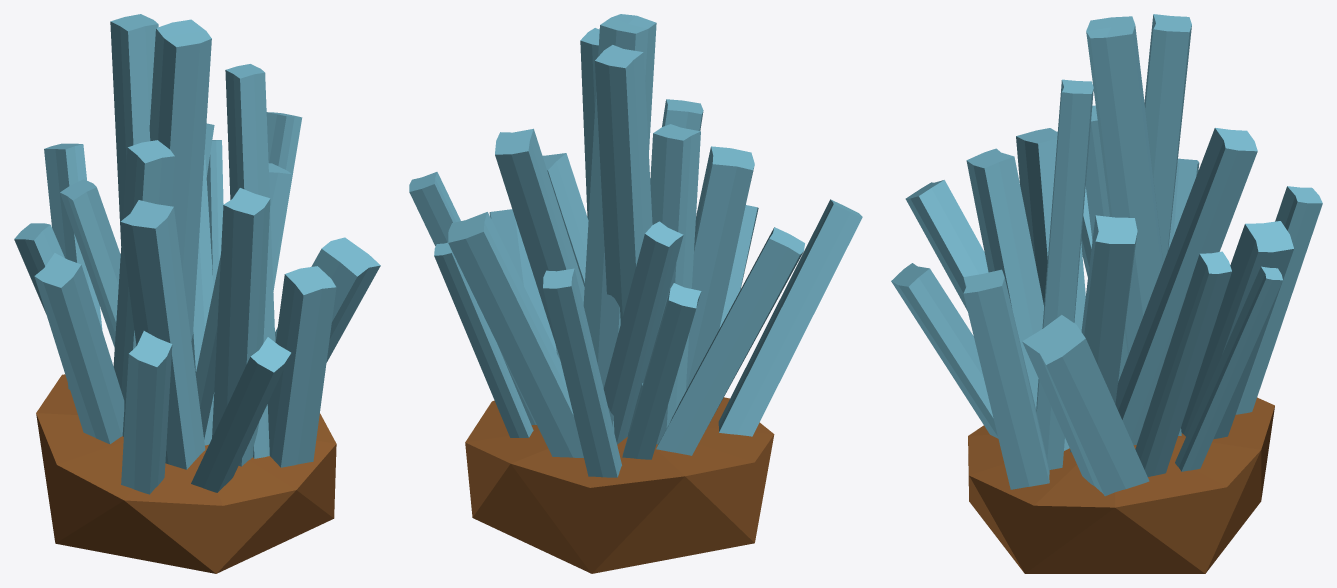
File: crystal.fbx
3 renders of one model, left to right at view 1: azimuth 30°, elevation 25°; view 2: azimuth 150°, elevation 25°; view 3: azimuth 270°, elevation 25°, orthographic. The views are drawn at different scales.
Visible parts, largest first — view 1: Icosphere.273; view 2: Icosphere.273; view 3: Icosphere.273.
Part boxes in pixels (<box>): Icosphere.273: <box>14,14,380,573</box>; Icosphere.273: <box>409,14,862,573</box>; Icosphere.273: <box>891,14,1322,573</box>.
Size of the model in its own units: 12282 by 18639 by 13761.
